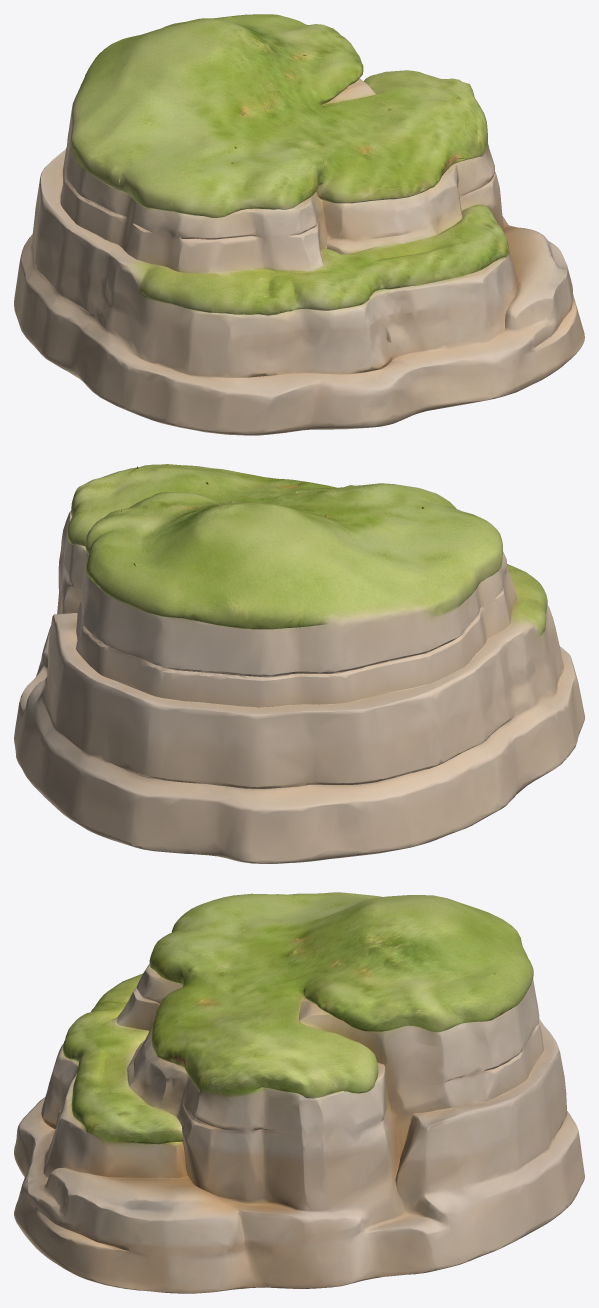
The model's file is toy-coastal-bluff-desktop.glb.
3 views of the same model, one above another, from view 1: azimuth 30°, elevation 25°; view 2: azimuth 150°, elevation 25°; view 3: azimuth 270°, elevation 25° (orthographic). The views are drawn at different scales.
Parts seen in each view (by area): view 1: model; view 2: model; view 3: model.
Part boxes in pixels (x1,y1,x2,y2): model: (14, 14, 584, 435); model: (14, 464, 584, 863); model: (14, 892, 584, 1293).
Bounding box in the file's own units: 1.76 × 0.9496 × 1.9.
Materials: 1 (1 with a texture image).
